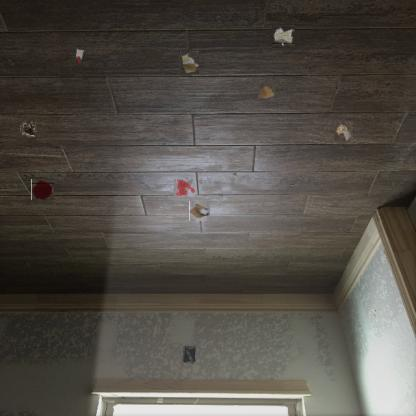dirty: (272, 24, 296, 48), (180, 50, 200, 74), (190, 201, 210, 222), (334, 122, 352, 141), (19, 119, 37, 137), (258, 84, 274, 100), (76, 47, 86, 63)
liquid: (31, 178, 54, 200), (174, 178, 194, 198)
